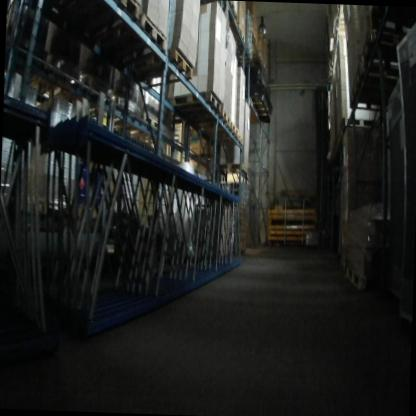pallet: (132, 48, 194, 89), (362, 30, 404, 64), (353, 61, 399, 91), (171, 91, 222, 115), (138, 14, 168, 52), (339, 117, 373, 146), (110, 0, 141, 22), (345, 267, 361, 290), (219, 163, 248, 174), (218, 107, 231, 128), (142, 113, 158, 128), (227, 122, 239, 139), (349, 85, 356, 108), (234, 11, 240, 28), (237, 132, 244, 146), (239, 28, 245, 44), (228, 1, 235, 12)
